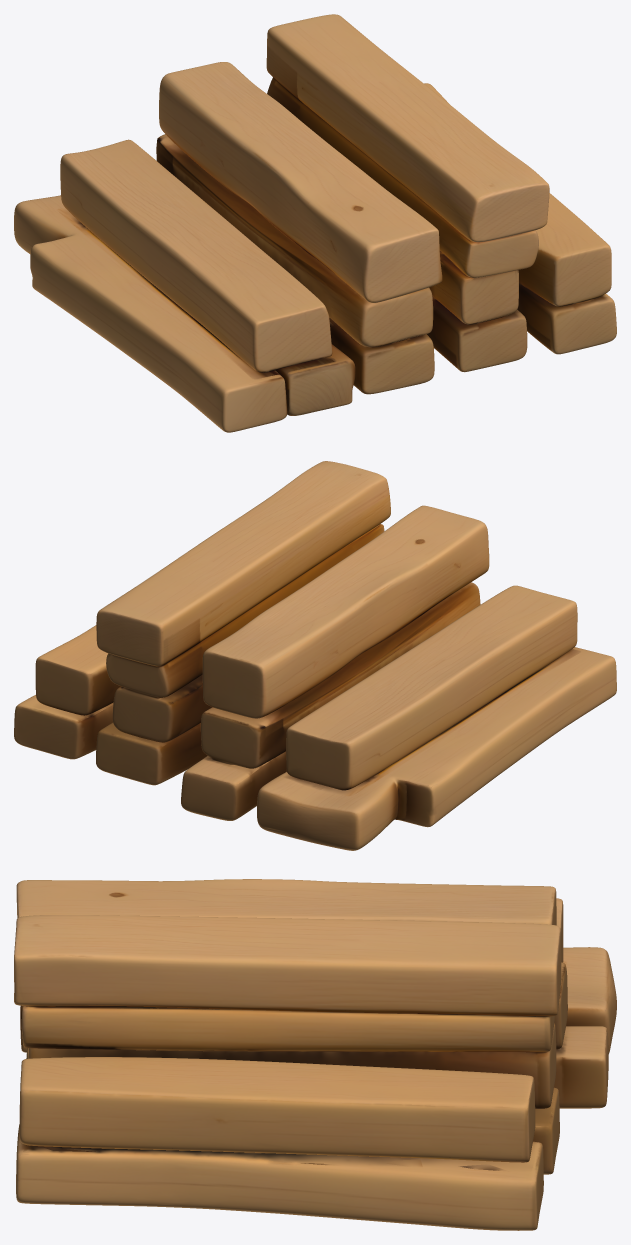
File: cuttedwood.fbx
The picture shows the model from 3 angles, top to bottom: view 1: azimuth 30°, elevation 25°; view 2: azimuth 150°, elevation 25°; view 3: azimuth 270°, elevation 25°; orthographic projection. The views are drawn at different scales.
Parts seen in each view (by area): view 1: node_0; view 2: node_0; view 3: node_0.
Boxes of the visible parts, x1,y1,x2,y2 form: node_0: (14, 14, 616, 432); node_0: (14, 461, 616, 850); node_0: (14, 879, 616, 1230).
Size of the model in its own units: 83.81 by 32.68 by 83.45.
Materials: 1 (1 with a texture image).
